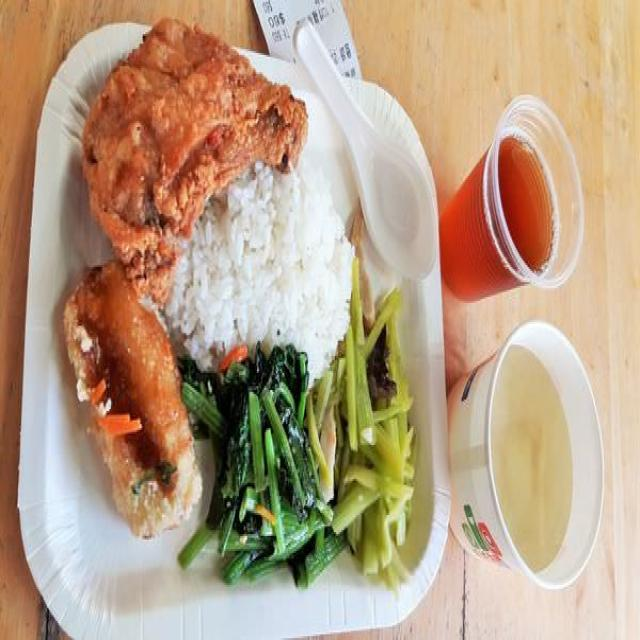Fushan-lettuce: (226, 357, 406, 565)
meat: (104, 42, 295, 214)
rice: (222, 218, 326, 325)
